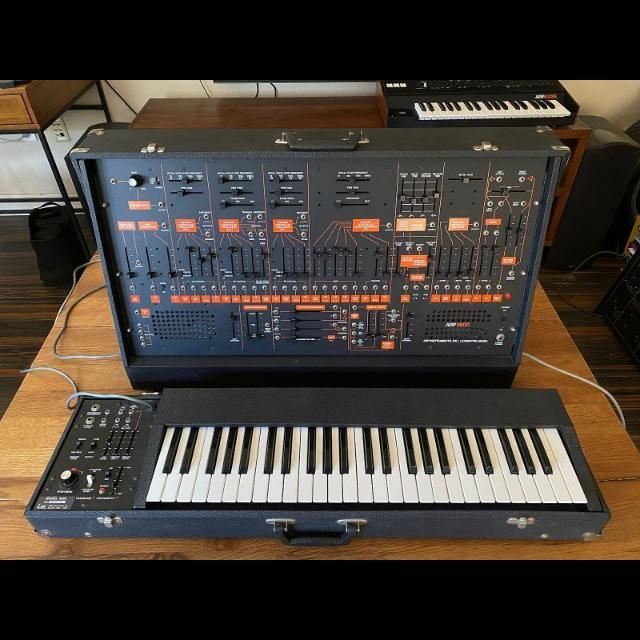Electronic-Keyboard: (19, 133, 621, 542), (373, 84, 592, 128)
